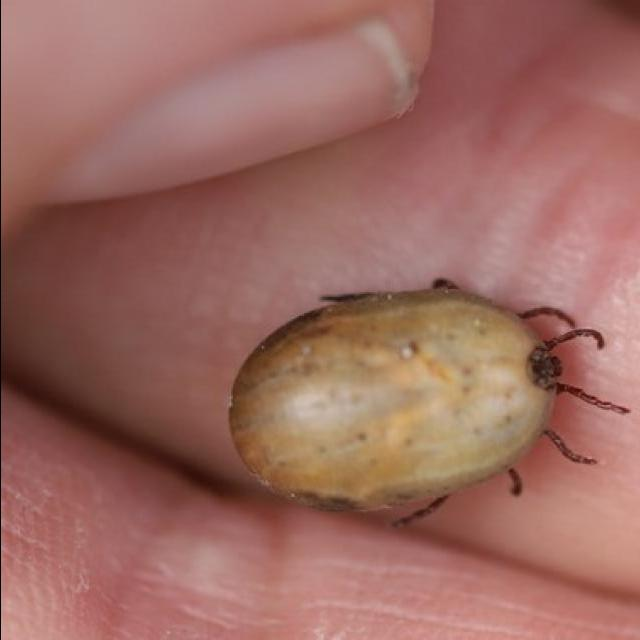Dermacentor Reticulatus-F-Fed: (225, 278, 628, 521)
